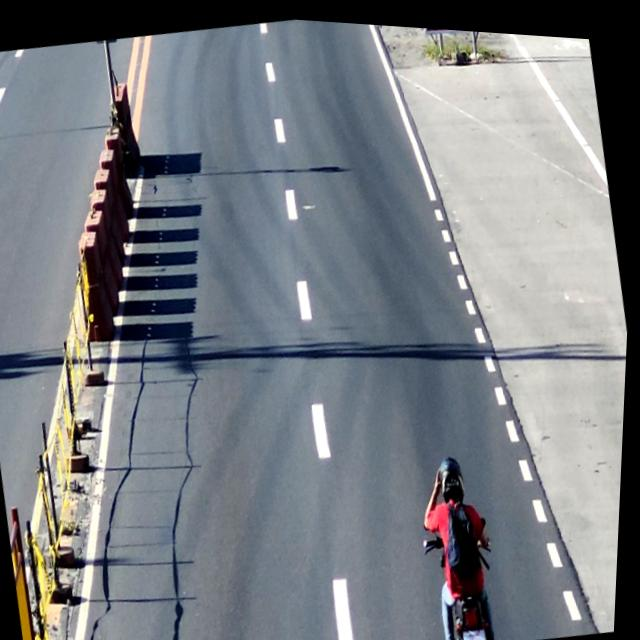Motorcycle: (414, 445, 513, 640)
